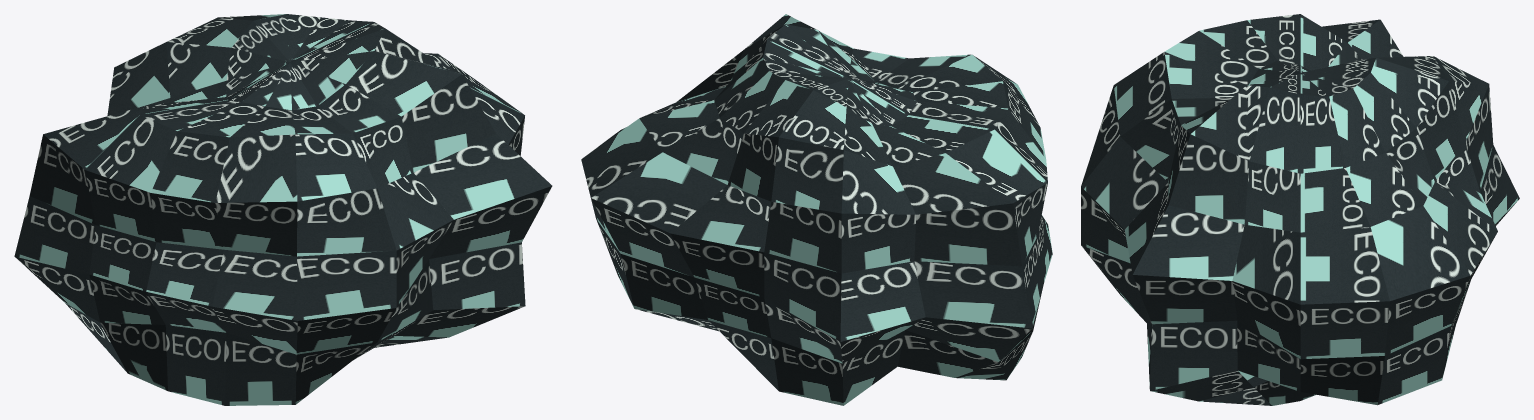
The model's file is rock_medium_LOD0.obj.
3 views of the same model, side by side, from view 1: azimuth 30°, elevation 25°; view 2: azimuth 150°, elevation 25°; view 3: azimuth 270°, elevation 25° (orthographic). The views are drawn at different scales.
Visible parts, largest first — view 1: L02_rock_medium_LOD0; view 2: L02_rock_medium_LOD0; view 3: L02_rock_medium_LOD0.
Boxes of the visible parts, x1,y1,x2,y2 form: L02_rock_medium_LOD0: (14,14,552,405); L02_rock_medium_LOD0: (581,14,1052,405); L02_rock_medium_LOD0: (1081,14,1519,405).
Size of the model in its own units: 3.43 by 2.23 by 2.71.
1 material, 1 textured.
